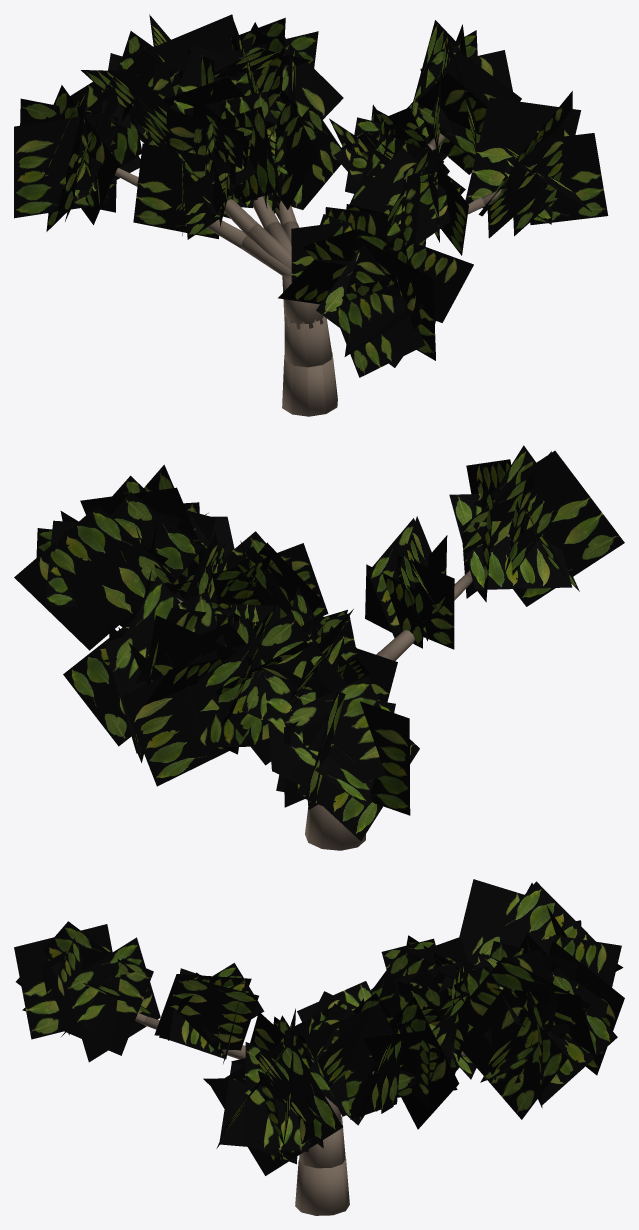
File: fig_4.glb
The picture shows the model from 3 angles, top to bottom: view 1: azimuth 30°, elevation 25°; view 2: azimuth 150°, elevation 25°; view 3: azimuth 270°, elevation 25°; orthographic projection. The views are drawn at different scales.
Parts seen in each view (by area): view 1: fig; view 2: fig; view 3: fig.
Boxes of the visible parts, box(x1,y1,x2,y2) form: fig: box(14, 14, 608, 416); fig: box(14, 445, 624, 850); fig: box(14, 879, 624, 1215).
Size of the model in its own units: 8.87 by 5.99 by 11.11.
Materials: 2 (1 with a texture image).
